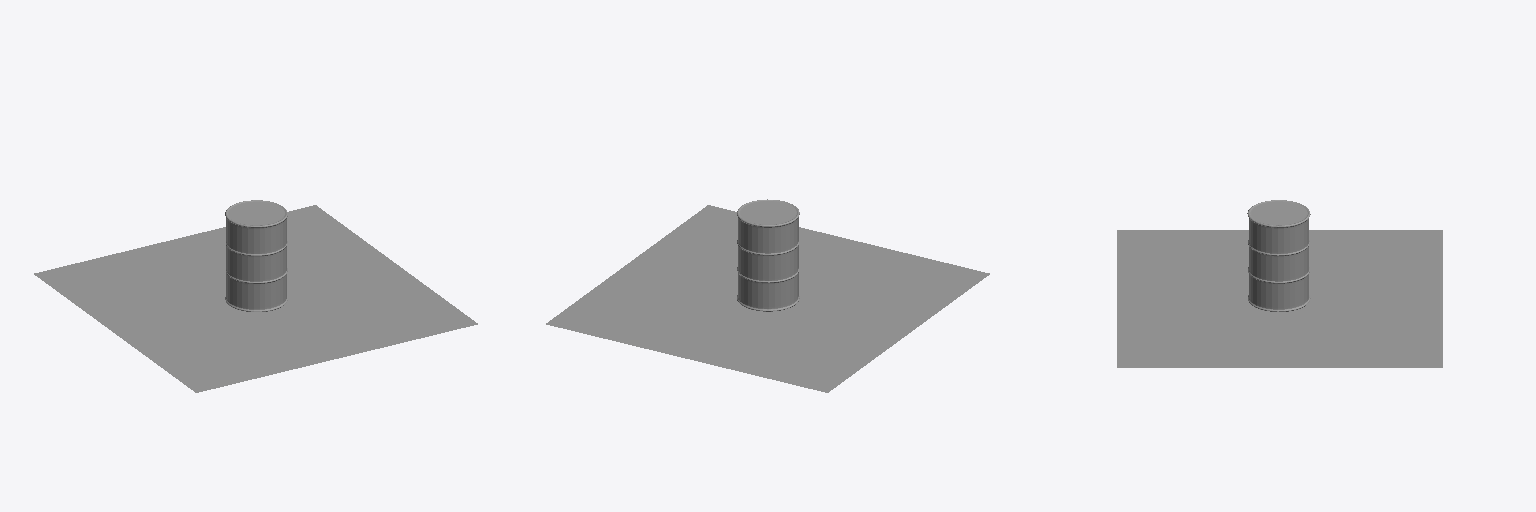
Rendered from barrel.obj.
3 views of the same model, side by side, from view 1: azimuth 30°, elevation 25°; view 2: azimuth 150°, elevation 25°; view 3: azimuth 270°, elevation 25° (orthographic).
Visible parts, largest first — view 1: GROUND_SOL_Plane, BARREL_Cylinder.001; view 2: GROUND_SOL_Plane, BARREL_Cylinder.001; view 3: GROUND_SOL_Plane, BARREL_Cylinder.001.
Boxes of the visible parts, <box> form: GROUND_SOL_Plane: <box>34,205,477,392</box>; BARREL_Cylinder.001: <box>225,200,287,311</box>; GROUND_SOL_Plane: <box>546,205,989,392</box>; BARREL_Cylinder.001: <box>737,199,799,311</box>; GROUND_SOL_Plane: <box>1117,230,1442,367</box>; BARREL_Cylinder.001: <box>1247,200,1310,311</box>.
Bounding box in the file's own units: 4 × 1.17 × 4.